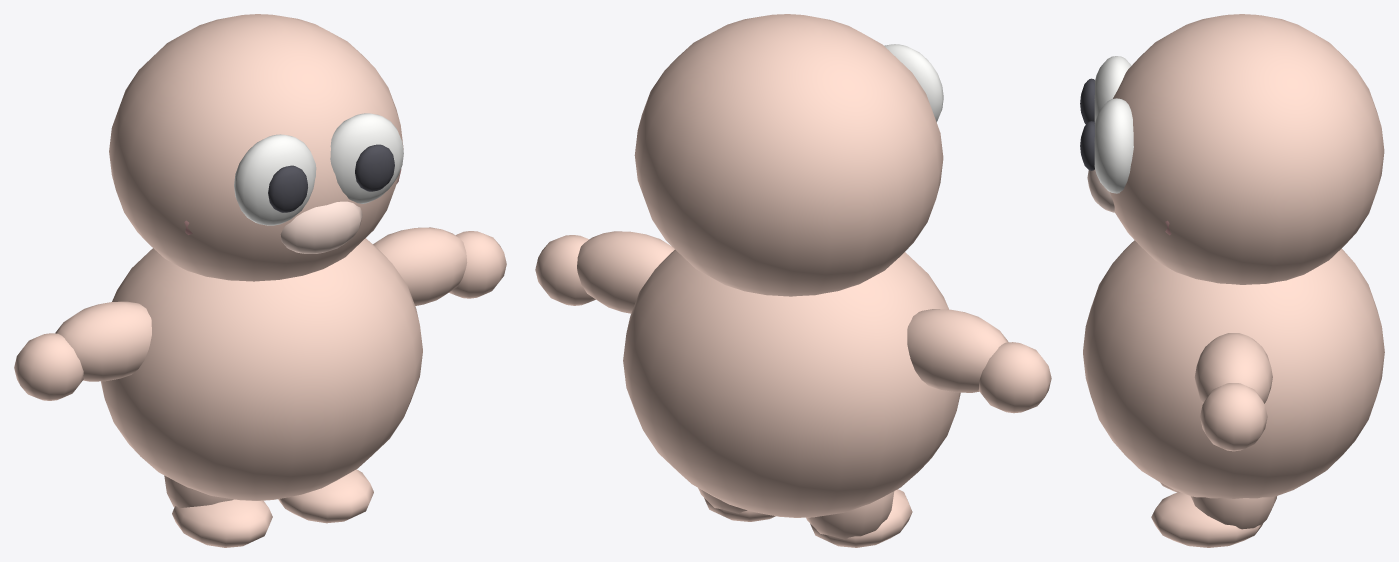
File: char_pudgy_procedural_01.glb
3 renders of one model, left to right at view 1: azimuth 30°, elevation 25°; view 2: azimuth 150°, elevation 25°; view 3: azimuth 270°, elevation 25°, orthographic. The views are drawn at different scales.
Visible parts, largest first — view 1: char_pudgy_procedural_01; view 2: char_pudgy_procedural_01; view 3: char_pudgy_procedural_01.
Boxes of the visible parts, x1,y1,x2,y2 form: char_pudgy_procedural_01: (14, 14, 506, 547); char_pudgy_procedural_01: (535, 14, 1051, 547); char_pudgy_procedural_01: (1080, 14, 1384, 547).
Size of the model in its own units: 1.25 by 1.2 by 0.6811.
